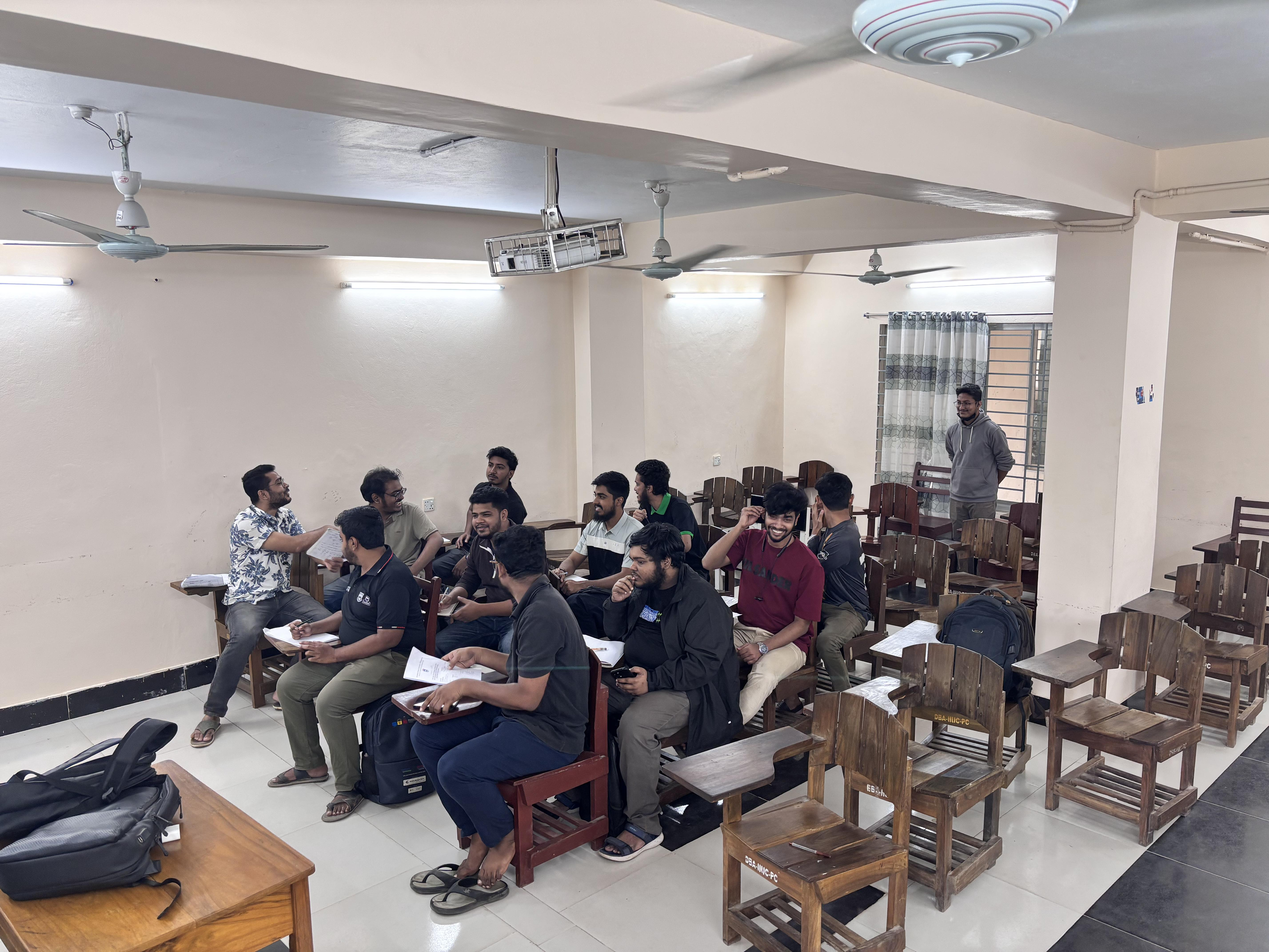copying: (309, 507, 410, 700), (630, 456, 698, 542)
invigilator: (940, 378, 1018, 542)
no_cheating: (561, 472, 646, 602), (442, 489, 525, 618), (461, 440, 524, 519)
side_talking: (420, 520, 585, 750), (223, 456, 318, 643), (722, 486, 819, 661), (350, 464, 441, 567)
suspicious_moving: (805, 469, 875, 619)
using_phone: (593, 529, 714, 714)
